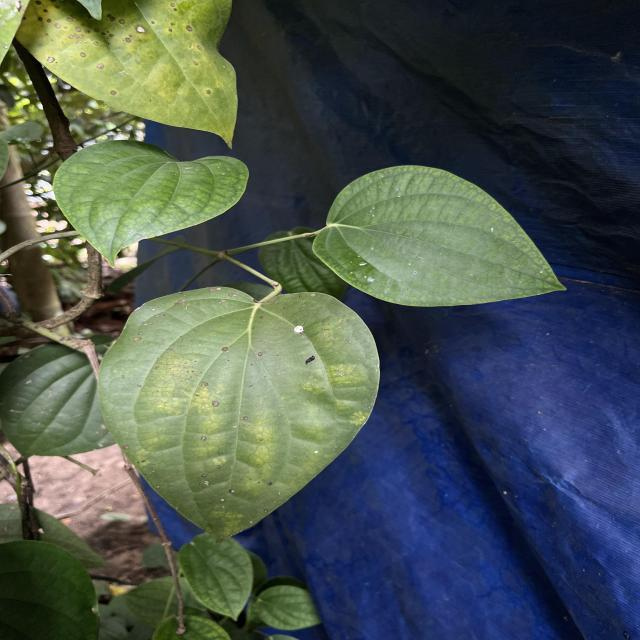Piper nigrum: (96, 285, 382, 546), (310, 164, 570, 308), (51, 138, 250, 270)
